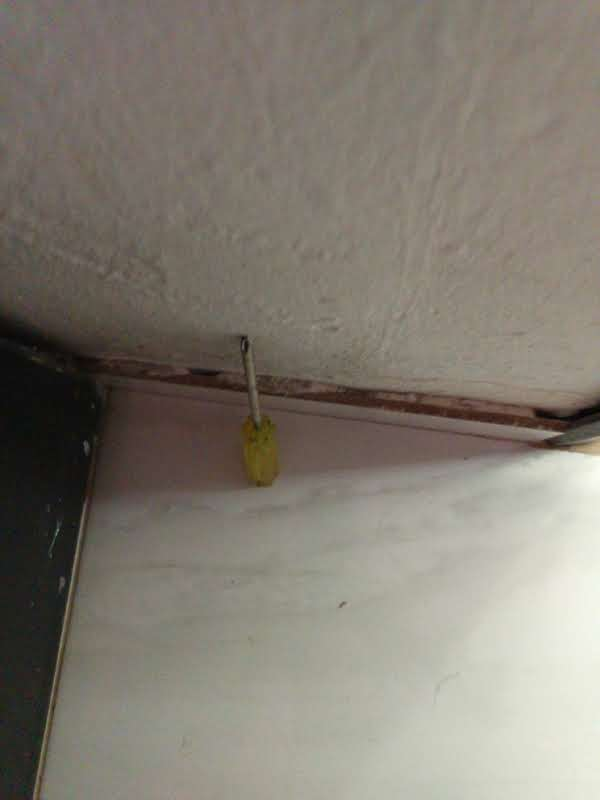Destornillador: (240, 336, 278, 484)
